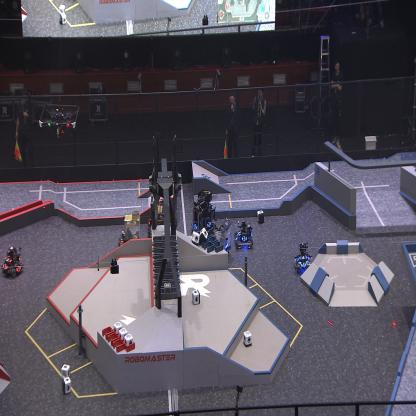car: (190, 190, 217, 240), (117, 210, 140, 256), (146, 199, 168, 240), (212, 217, 232, 255), (1, 246, 24, 278), (235, 219, 254, 250), (294, 242, 312, 272)
